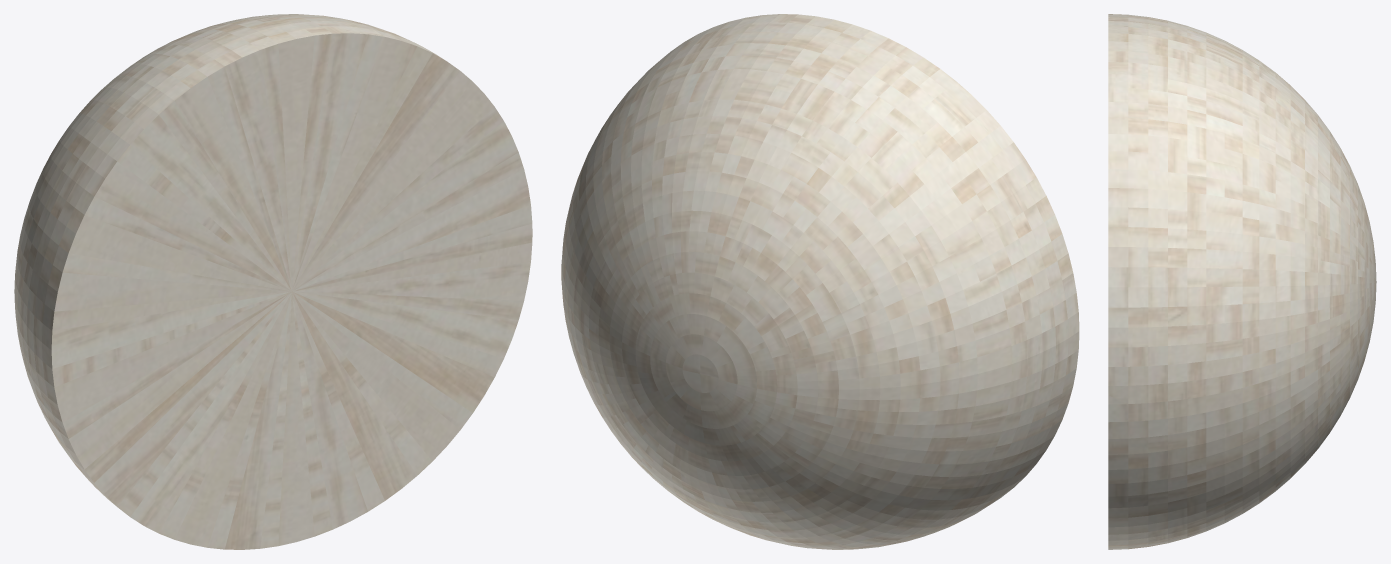
File: he_phere.dae
3 views of the same model, side by side, from view 1: azimuth 30°, elevation 25°; view 2: azimuth 150°, elevation 25°; view 3: azimuth 270°, elevation 25° (orthographic). The views are drawn at different scales.
Parts seen in each view (by area): view 1: he_phere; view 2: he_phere; view 3: he_phere.
Part boxes in pixels (left/top/right/bottom): he_phere: left=14, top=14, right=532, bottom=549; he_phere: left=561, top=14, right=1079, bottom=549; he_phere: left=1108, top=14, right=1376, bottom=549.
Size of the model in its own units: 0.05 by 0.025 by 0.05.
Materials: 1 (1 with a texture image).
